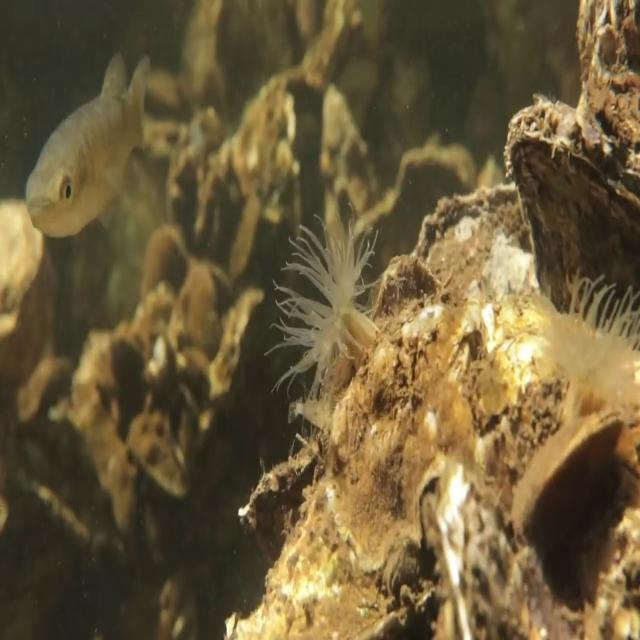Oyster-Closed: (499, 78, 637, 319), (509, 401, 628, 551), (235, 427, 326, 559)
